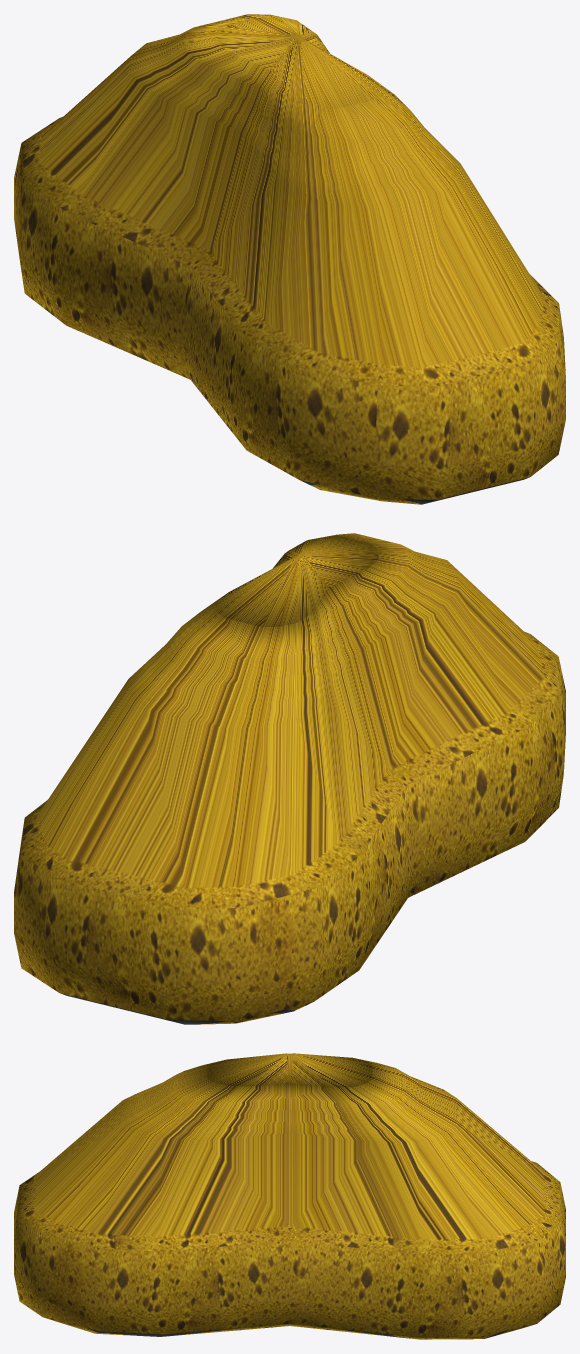
File: bin.dae
The picture shows the model from 3 angles, top to bottom: view 1: azimuth 30°, elevation 25°; view 2: azimuth 150°, elevation 25°; view 3: azimuth 270°, elevation 25°; orthographic projection. The views are drawn at different scales.
Parts seen in each view (by area): view 1: Sponge; view 2: Sponge; view 3: Sponge.
Part boxes in pixels (x1=…): Sponge: x1=14, y1=14, x2=565, y2=504; Sponge: x1=14, y1=533, x2=565, y2=1024; Sponge: x1=14, y1=1053, x2=565, y2=1339.
Bounding box in the file's own units: 0.066 × 0.1413 × 0.0676.
1 material, 1 textured.
